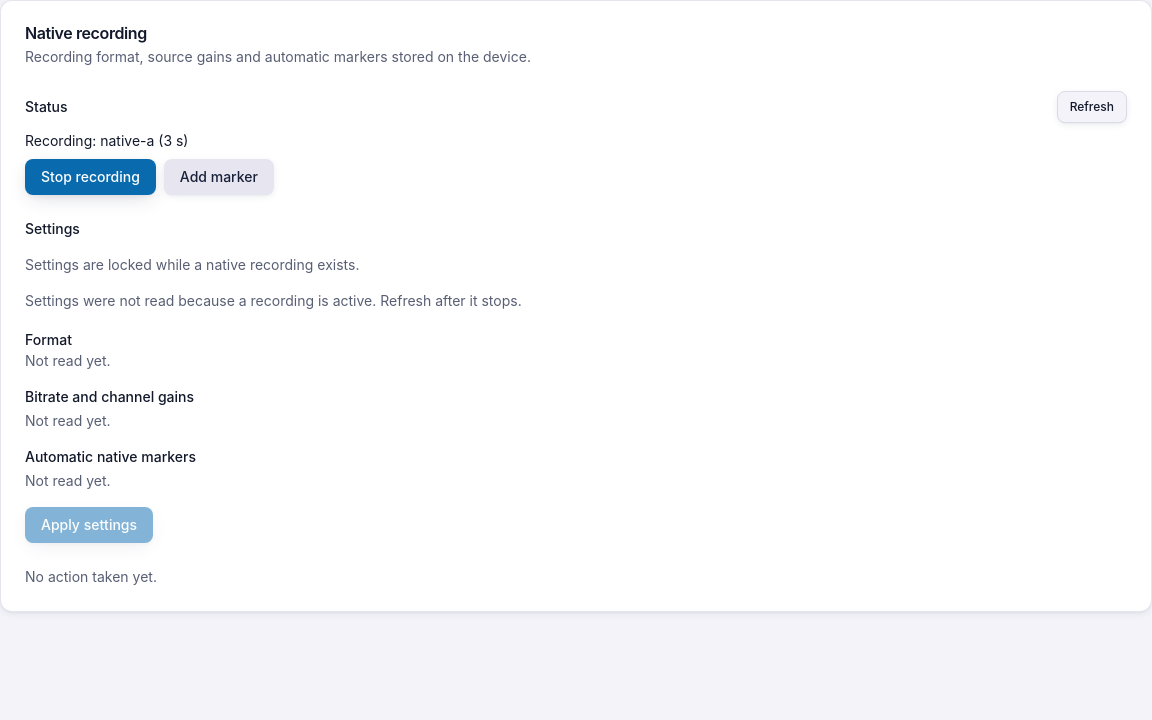
Test: DeviceNativeRecordingPanel failure behavior › does not describe a rejected or inconclusive marker response as acknowledged
Check: the text "Recording: native-a (3 s)" is shown, box [25,132,188,149]
Click the button with test id "native-marker" at (219, 177), box [164,159,274,195]
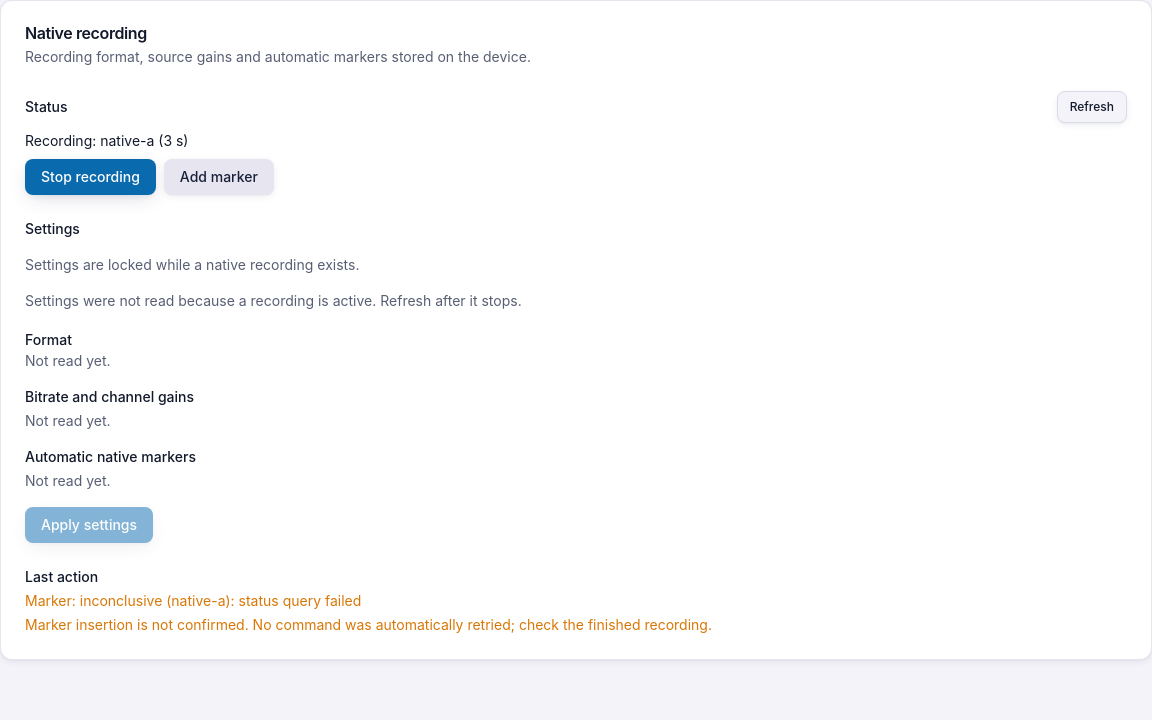
Check: the text "Marker insertion is not confirmed" is shown, box [25,616,712,633]
